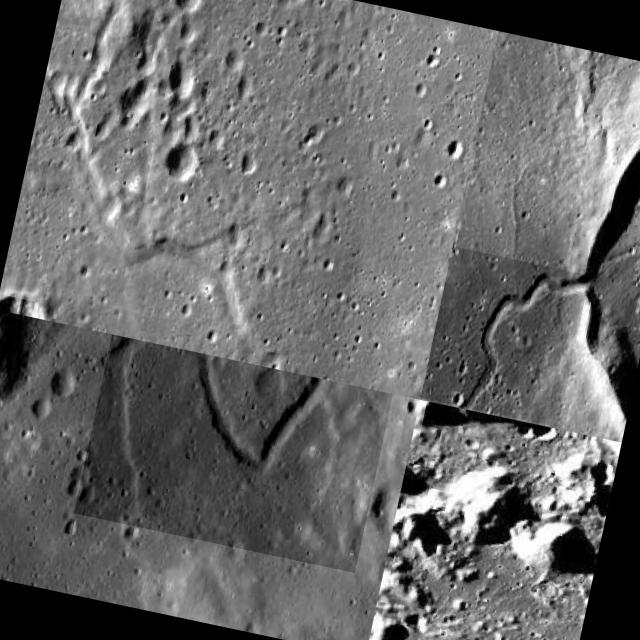rille: (29, 0, 307, 335), (74, 334, 392, 573), (365, 399, 619, 640), (420, 246, 589, 427)
